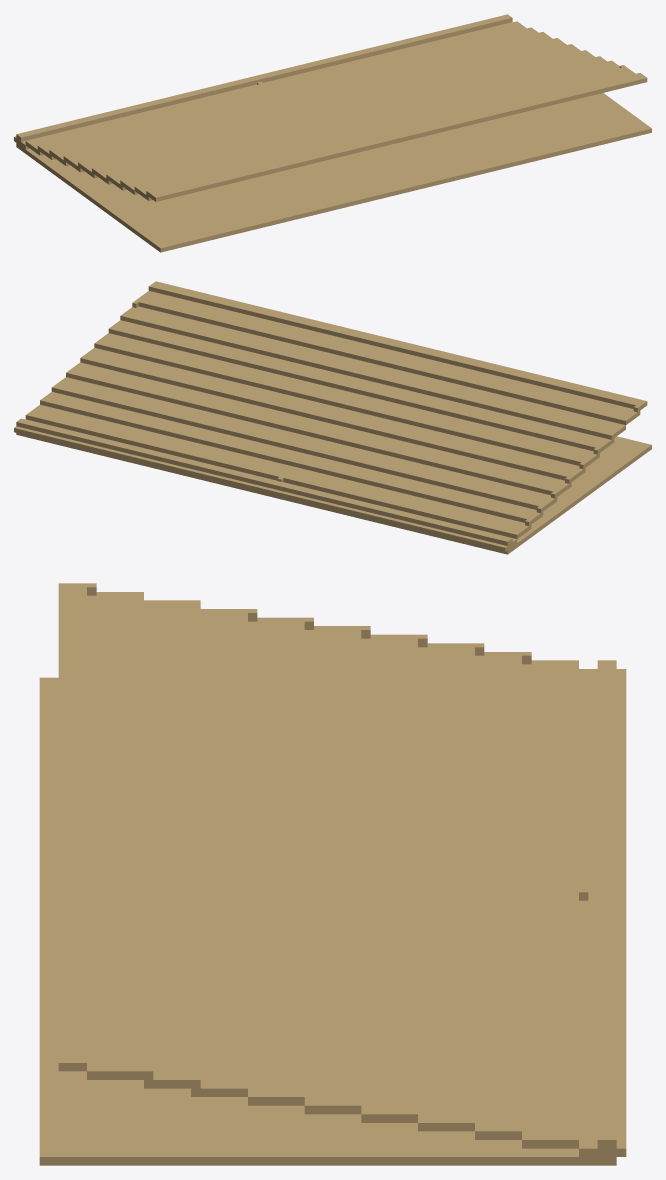
The model's file is wrapper.glb.
The picture shows the model from 3 angles, top to bottom: view 1: azimuth 30°, elevation 25°; view 2: azimuth 150°, elevation 25°; view 3: azimuth 270°, elevation 25°; orthographic projection. The views are drawn at different scales.
Parts seen in each view (by area): view 1: wrapper:compound; view 2: wrapper:compound; view 3: wrapper:compound.
Part boxes in pixels (x1,y1,x2,y2): wrapper:compound: [14, 14, 651, 252]; wrapper:compound: [14, 281, 651, 554]; wrapper:compound: [39, 583, 626, 1165].
Size of the model in its own units: 0.24 by 0.024 by 0.124.
